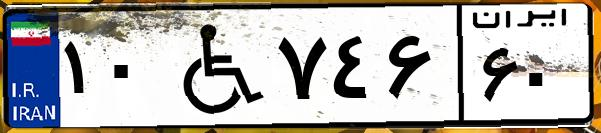0: (525, 38, 570, 115), (110, 28, 158, 98)
1: (57, 26, 110, 100)
4: (330, 28, 385, 110)
6: (385, 28, 445, 110), (475, 38, 525, 113)
7: (270, 28, 330, 110)
ژ (معلولین و جانبازان): (158, 12, 270, 120)
